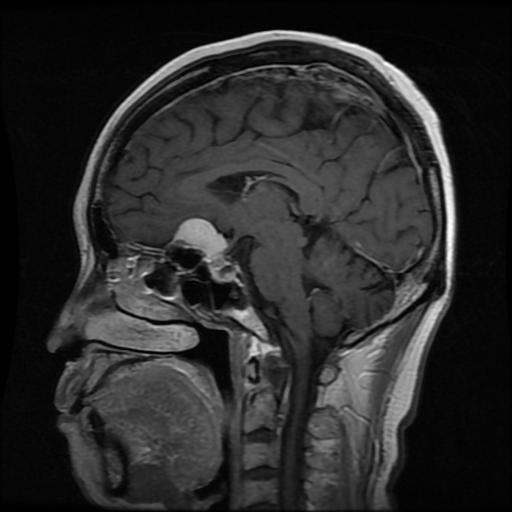Menigiomia_tumour: (173, 214, 225, 254)
